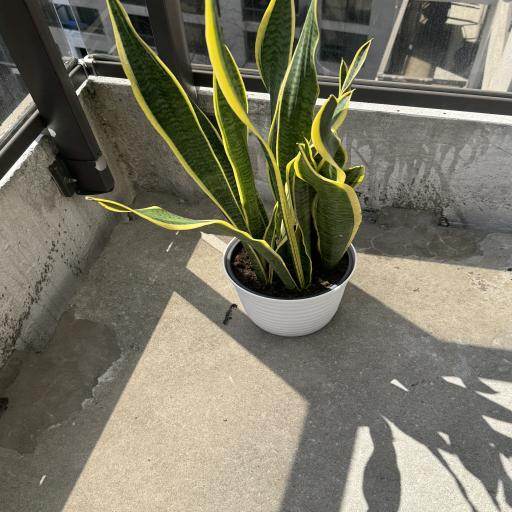Plant Pot: (223, 224, 357, 338)
